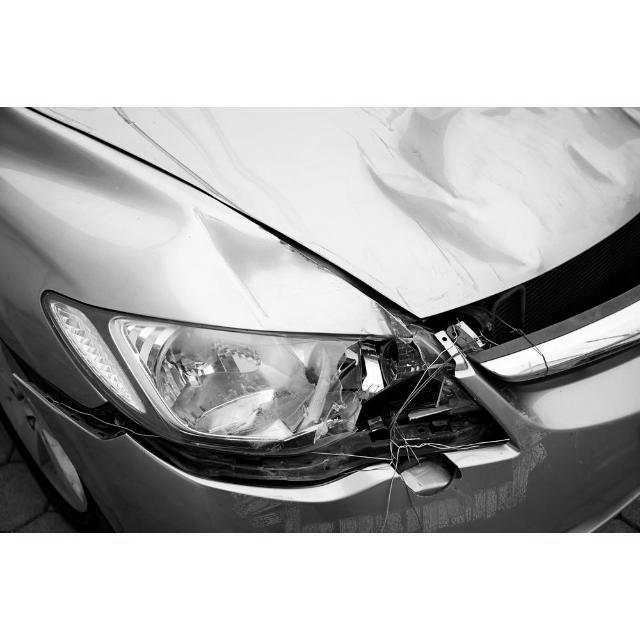Headlight-damage: (108, 312, 389, 479)
bonnet-dent: (241, 108, 640, 335)
fender-dent: (1, 115, 108, 429)
